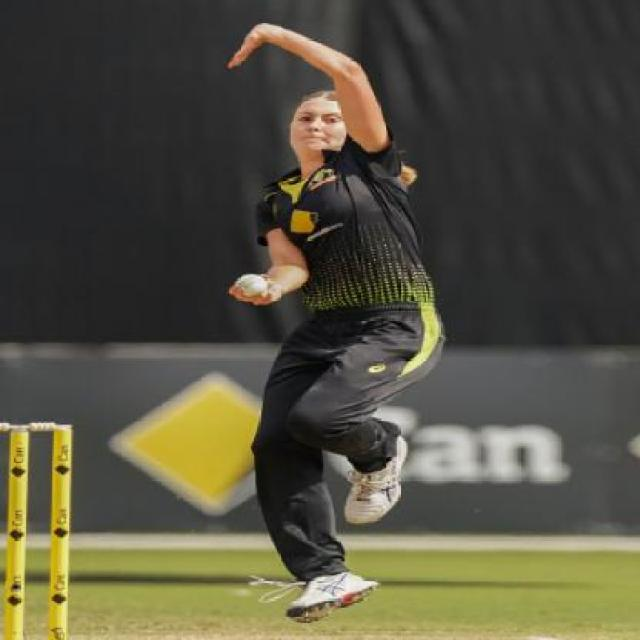ball: (212, 252, 288, 316)
